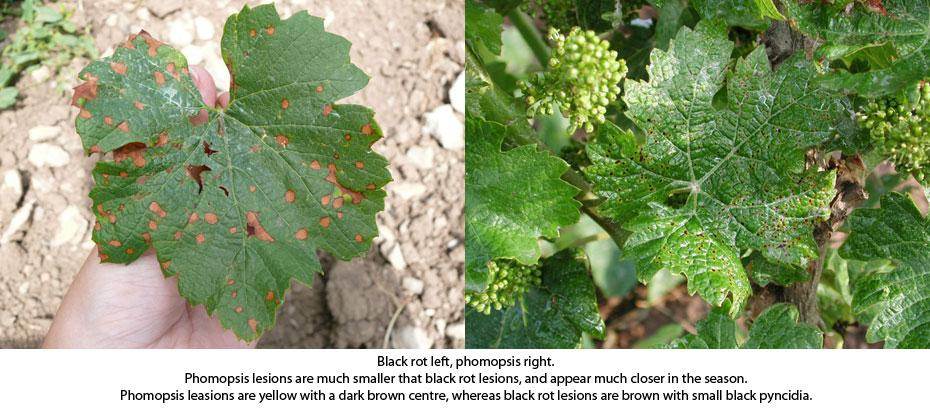grape leaf: (53, 6, 424, 338), (588, 22, 857, 314)
